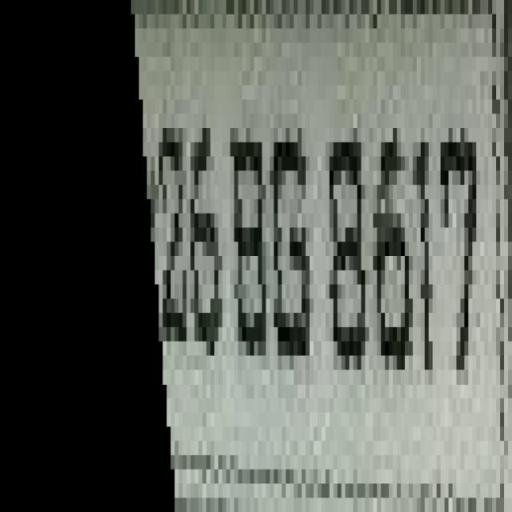number plate: (12, 0, 512, 470)
